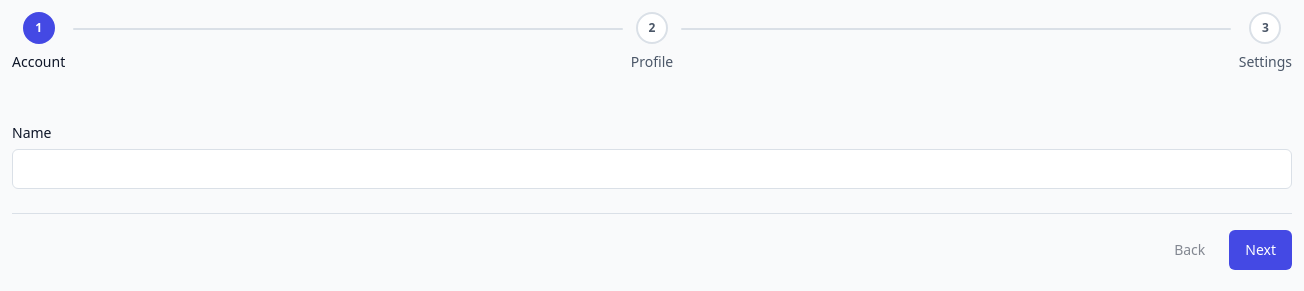
Test: FormWizard — navigation › Back returns to previous step preserving entered values
In the field labelled "Name": (652, 169) [12,149,1292,189], type "Ada"
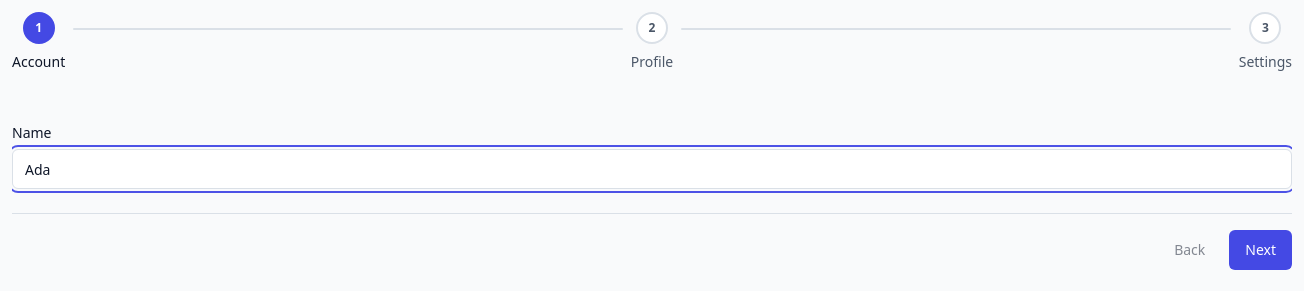
Click the button with test id "wizard-next": (1261, 250) [1229,230,1292,270]
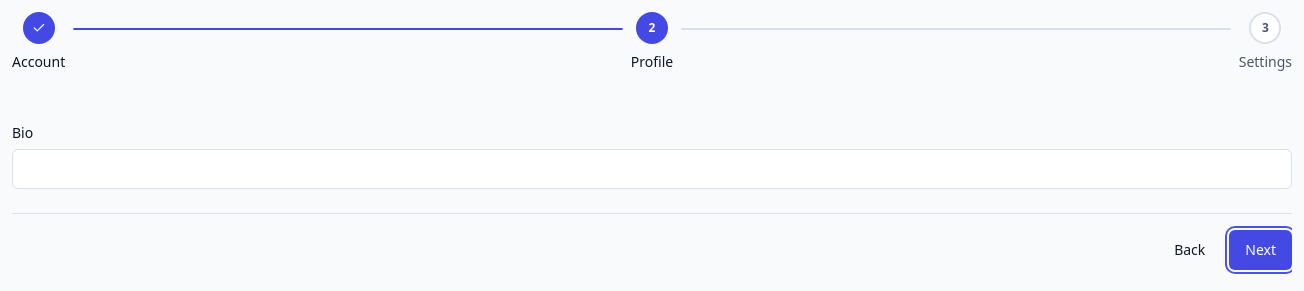
In the field labelled "Bio": (652, 169) [12,149,1292,189], type "Hello"
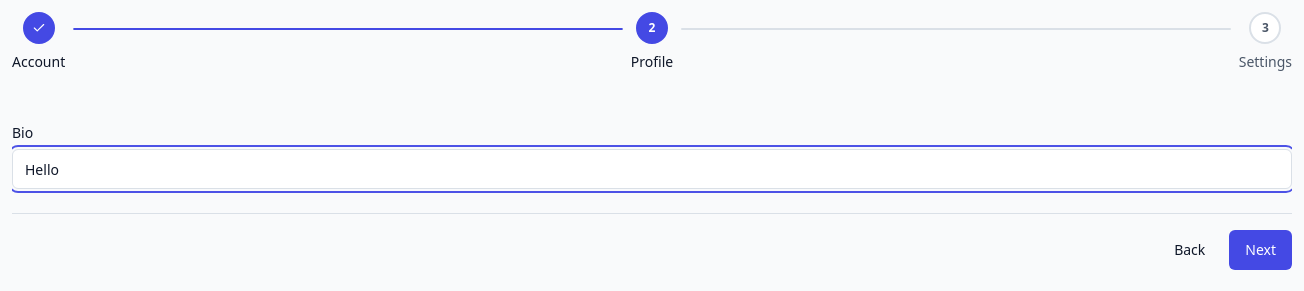
Click the button with test id "wizard-back": (1190, 250) [1158,230,1221,270]
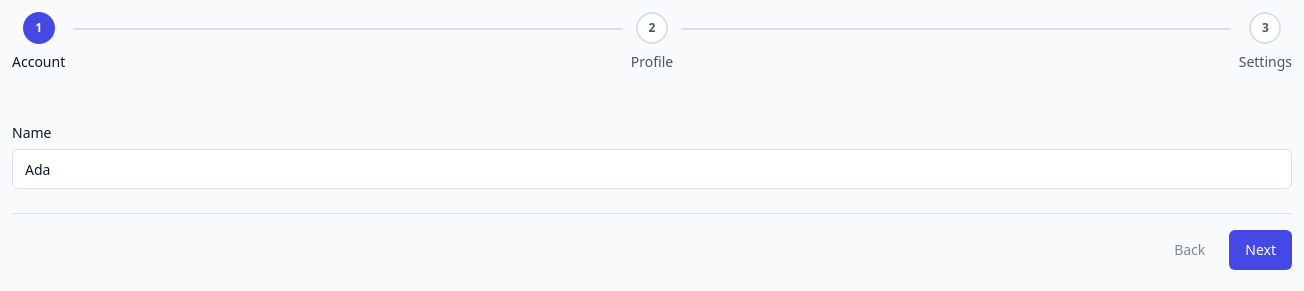
Result: the field labelled "Name" holds "Ada" at [12,149,1292,189]
